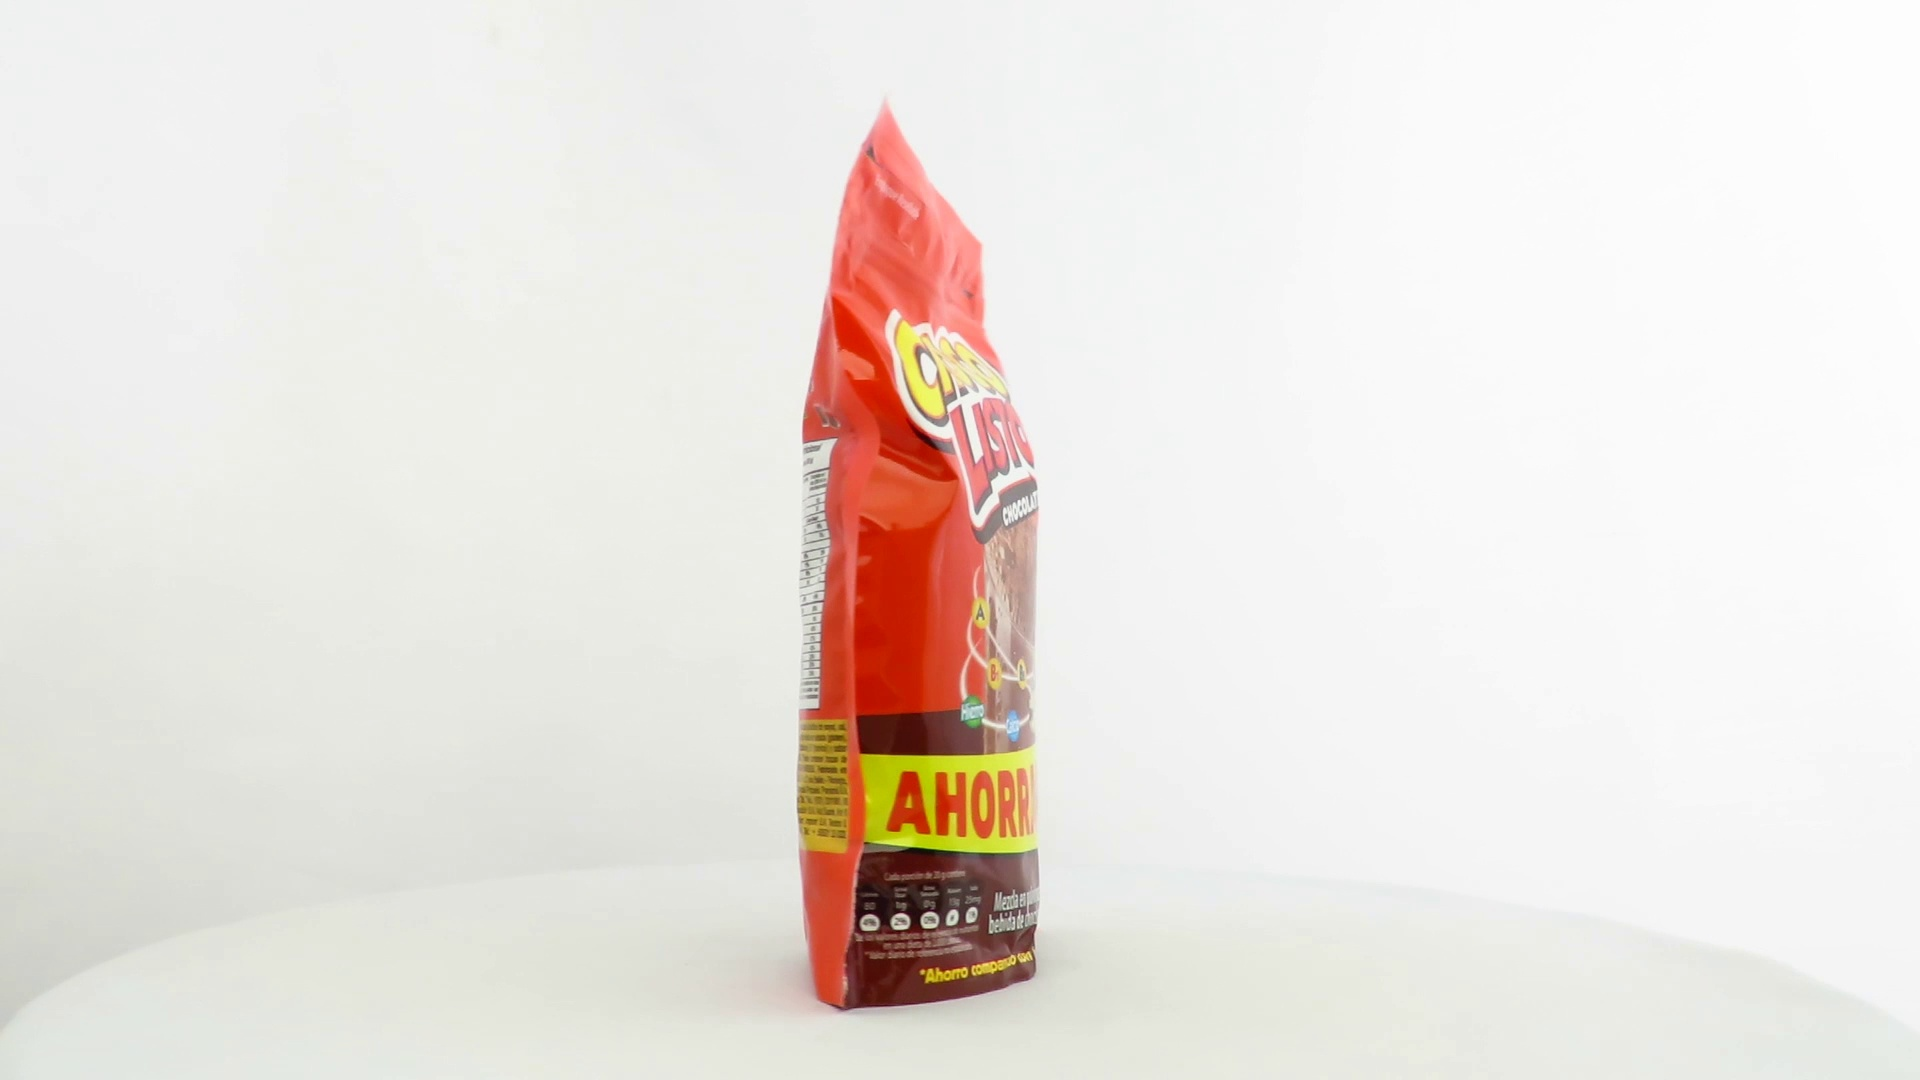COL0170103DYP40000: (791, 84, 1051, 1018)
